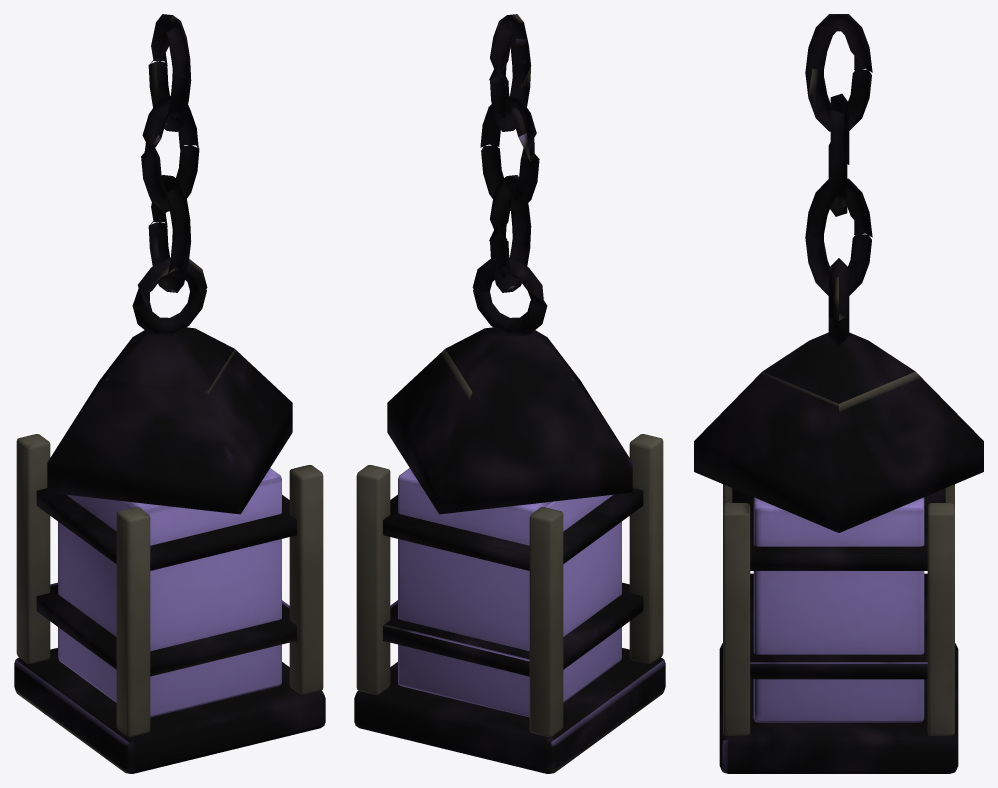
The model's file is rook_lantern.obj.
3 views of the same model, side by side, from view 1: azimuth 30°, elevation 25°; view 2: azimuth 150°, elevation 25°; view 3: azimuth 270°, elevation 25° (orthographic). The views are drawn at different scales.
Visible parts, largest first — view 1: part0, fire, part2; view 2: part0, fire, part2; view 3: part0, fire, part2.
Boxes of the visible parts, left/top/right/bottom form: part0: left=14, top=14, right=325, bottom=773; fire: left=58, top=468, right=281, bottom=717; part2: left=16, top=434, right=323, bottom=737; part0: left=354, top=14, right=665, bottom=773; fire: left=398, top=468, right=621, bottom=717; part2: left=356, top=434, right=663, bottom=737; part0: left=694, top=14, right=983, bottom=773; fire: left=753, top=497, right=924, bottom=722; part2: left=723, top=484, right=954, bottom=735.
Size of the model in its own units: 0.34 by 0.9211 by 0.34.
